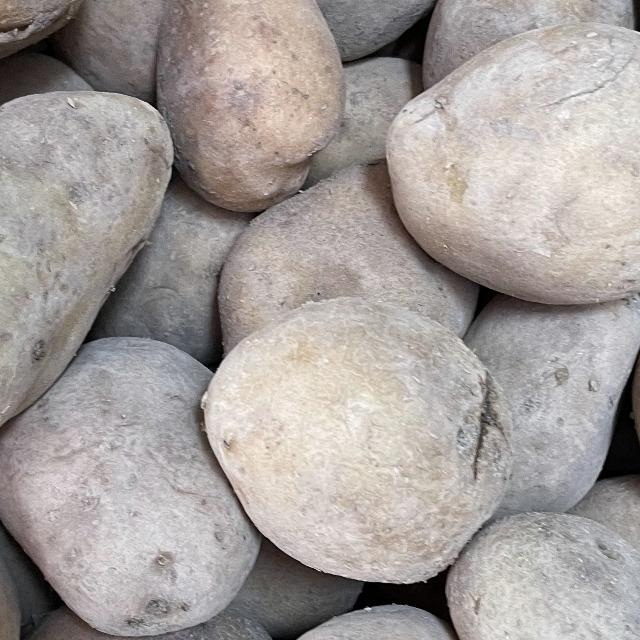potato: (195, 275, 538, 578), (0, 72, 207, 480), (375, 0, 640, 310), (107, 0, 370, 220)
